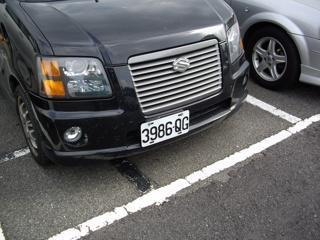plate: (139, 113, 191, 143)
